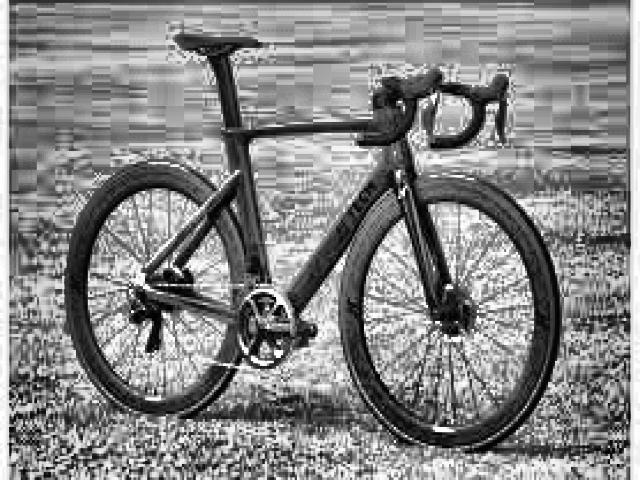cranks_set: (233, 285, 317, 371)
sti_shifter: (488, 72, 512, 147), (425, 65, 446, 140)
wheel: (337, 172, 562, 452), (65, 164, 249, 424)
